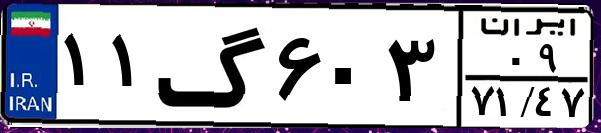0: (330, 28, 385, 110), (508, 27, 537, 80)
1: (57, 26, 110, 100), (110, 28, 156, 98), (495, 70, 520, 125)
3: (385, 28, 445, 110)
4: (535, 70, 560, 125)
6: (270, 28, 330, 110)
7: (560, 70, 590, 125), (470, 70, 495, 125)
9: (537, 27, 568, 80)
گ: (156, 12, 270, 120)
